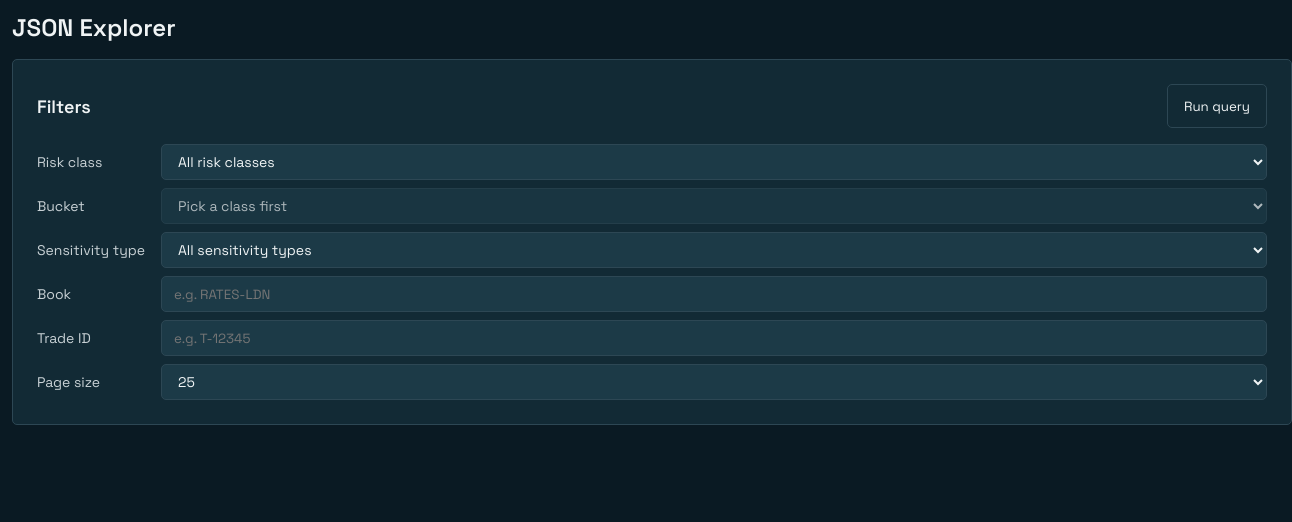
Test case: JsonExplorerPanel › renders the empty-target amber banner for 412 responses
The image size is (1292, 522).
Click the button "Run query" at (1217, 106), box [1167,84,1267,128]
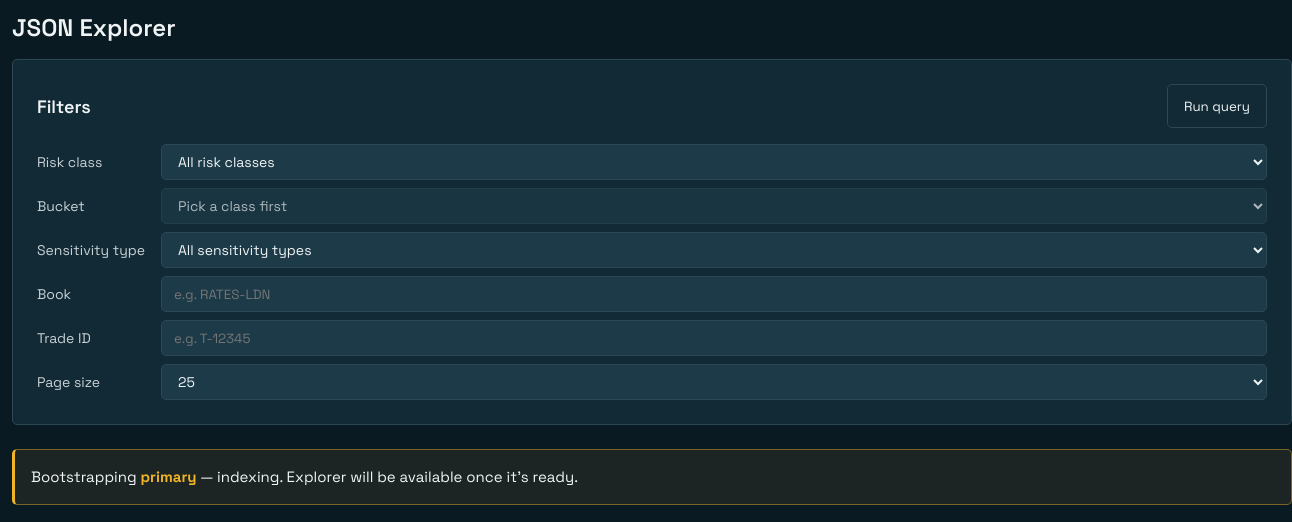
Result: the message with test id "empty-target-banner" shows "primary" at [140,467,197,486]
